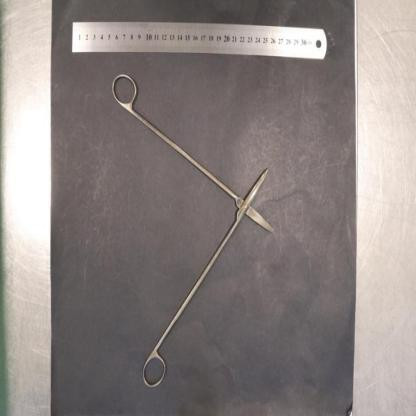9 Metzenbaum Scissors: (110, 72, 276, 390)
